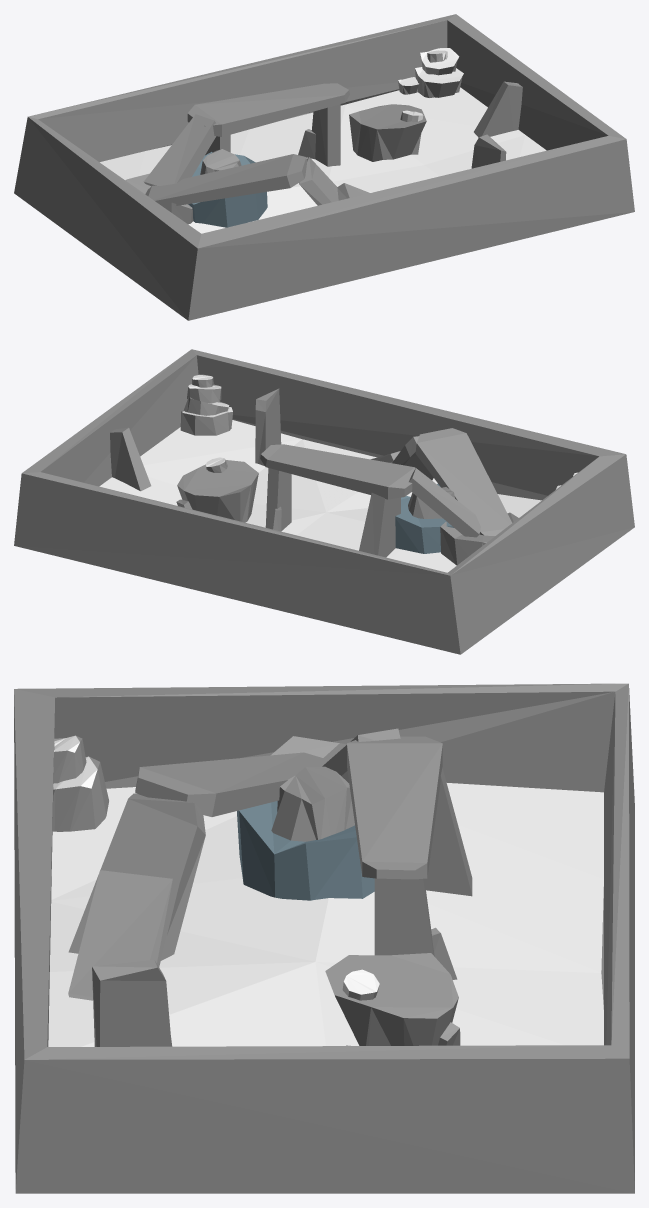
Rendered from fase1alfa.fbx.
3 renders of one model, top to bottom at view 1: azimuth 30°, elevation 25°; view 2: azimuth 150°, elevation 25°; view 3: azimuth 270°, elevation 25°, orthographic. The views are drawn at different scales.
Parts seen in each view (by area): view 1: mesh_1299839319, mesh_904529510, mesh_362681287, mesh_279757154, mesh_1388914526, mesh_331444629, mesh_1966480919, mesh_1483578431, mesh_371198978, mesh_616740311, mesh_1714677689, mesh_793853698 (+2 smaller); view 2: mesh_1299839319, mesh_362681287, mesh_904529510, mesh_279757154, mesh_1388914526, mesh_533364390, mesh_331444629, mesh_1966480919, mesh_1714677689, mesh_1483578431, mesh_750190634, mesh_278823010 (+4 smaller); view 3: mesh_1299839319, mesh_904529510, mesh_279757154, mesh_331444629, mesh_616740311, mesh_1096944459, mesh_362681287, mesh_1714677689, mesh_793853698, mesh_1483578431, mesh_533364390, mesh_298068074 (+4 smaller).
Part boxes in pixels (x1,y1,x2,y2): mesh_1299839319: [14, 14, 634, 320]; mesh_904529510: [187, 83, 349, 136]; mesh_362681287: [145, 154, 307, 205]; mesh_279757154: [349, 104, 426, 161]; mesh_1388914526: [144, 114, 215, 186]; mesh_331444629: [188, 152, 267, 227]; mesh_1966480919: [474, 81, 522, 137]; mesh_1483578431: [311, 104, 340, 166]; mesh_371198978: [415, 67, 463, 97]; mesh_616740311: [299, 157, 338, 205]; mesh_1714677689: [471, 134, 506, 168]; mesh_793853698: [200, 149, 241, 174]; mesh_1299839319: [14, 349, 634, 654]; mesh_362681287: [415, 428, 511, 535]; mesh_904529510: [260, 444, 421, 499]; mesh_279757154: [177, 460, 258, 522]; mesh_1388914526: [409, 468, 480, 537]; mesh_533364390: [359, 493, 400, 557]; mesh_331444629: [395, 484, 453, 553]; mesh_1966480919: [110, 427, 151, 491]; mesh_1714677689: [255, 388, 281, 465]; mesh_1483578431: [265, 468, 291, 530]; mesh_750190634: [440, 512, 518, 565]; mesh_278823010: [180, 407, 232, 435]; mesh_1299839319: [14, 683, 634, 1193]; mesh_904529510: [347, 736, 442, 879]; mesh_279757154: [325, 953, 458, 1045]; mesh_331444629: [237, 801, 374, 900]; mesh_616740311: [68, 793, 205, 960]; mesh_1096944459: [68, 870, 179, 1000]; mesh_362681287: [135, 752, 328, 816]; mesh_1714677689: [92, 959, 172, 1046]; mesh_793853698: [271, 766, 354, 841]; mesh_1483578431: [374, 878, 434, 956]; mesh_533364390: [424, 767, 472, 896]; mesh_298068074: [52, 756, 108, 831].
Bounding box in the file's own units: 296 × 64.99 × 201.
